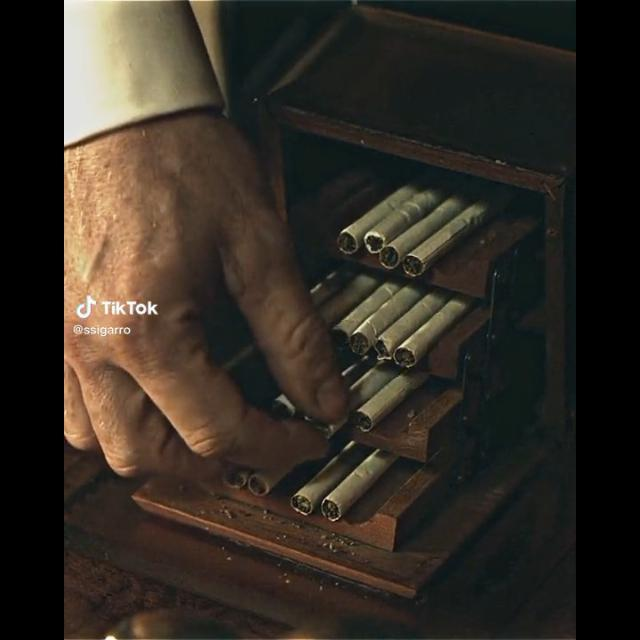rokok: (324, 166, 474, 292), (311, 264, 461, 378), (285, 442, 411, 526), (338, 378, 424, 436), (211, 462, 281, 510)
